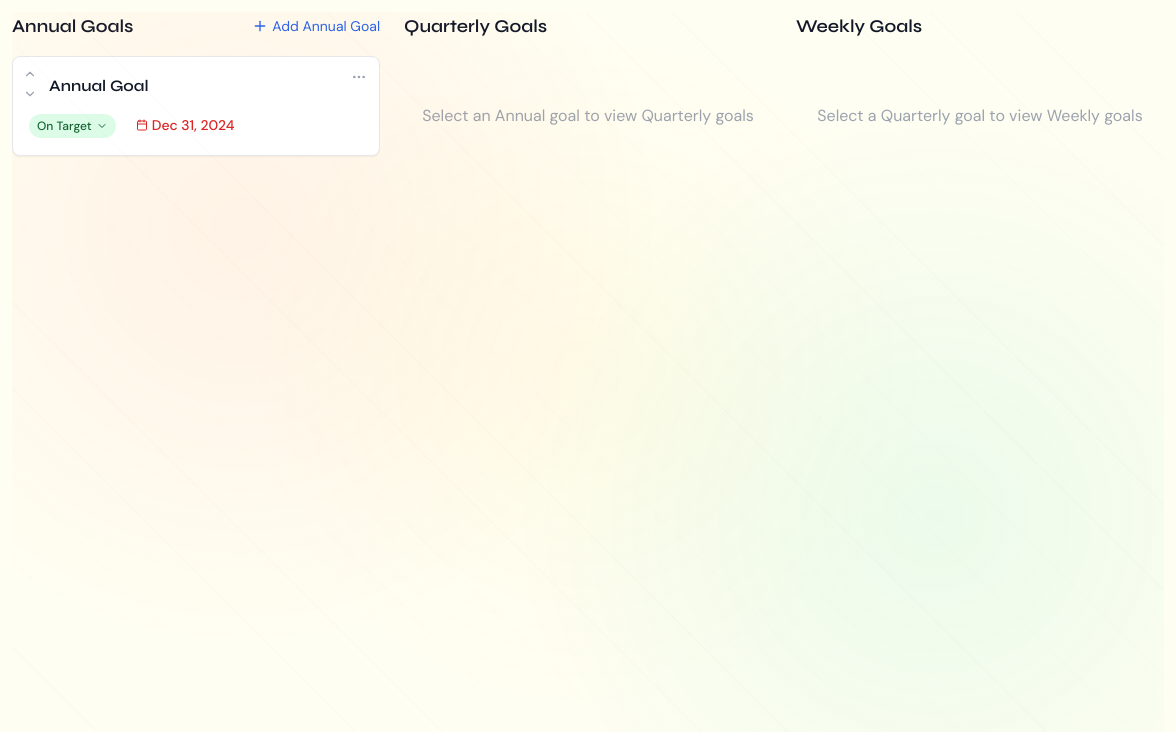
Scenario: ThreeColumnGoalView › shows selection flow from annual to quarterly to weekly
Expected: the text "Select an Annual goal to view Quarterly goals" is shown, [404,104,772,128]
Expected: the text "Select a Quarterly goal to view Weekly goals" is shown, [796,104,1164,128]
Note: Click annual goal
Click the text "Annual Goal" at (196,106), box [12,56,380,156]
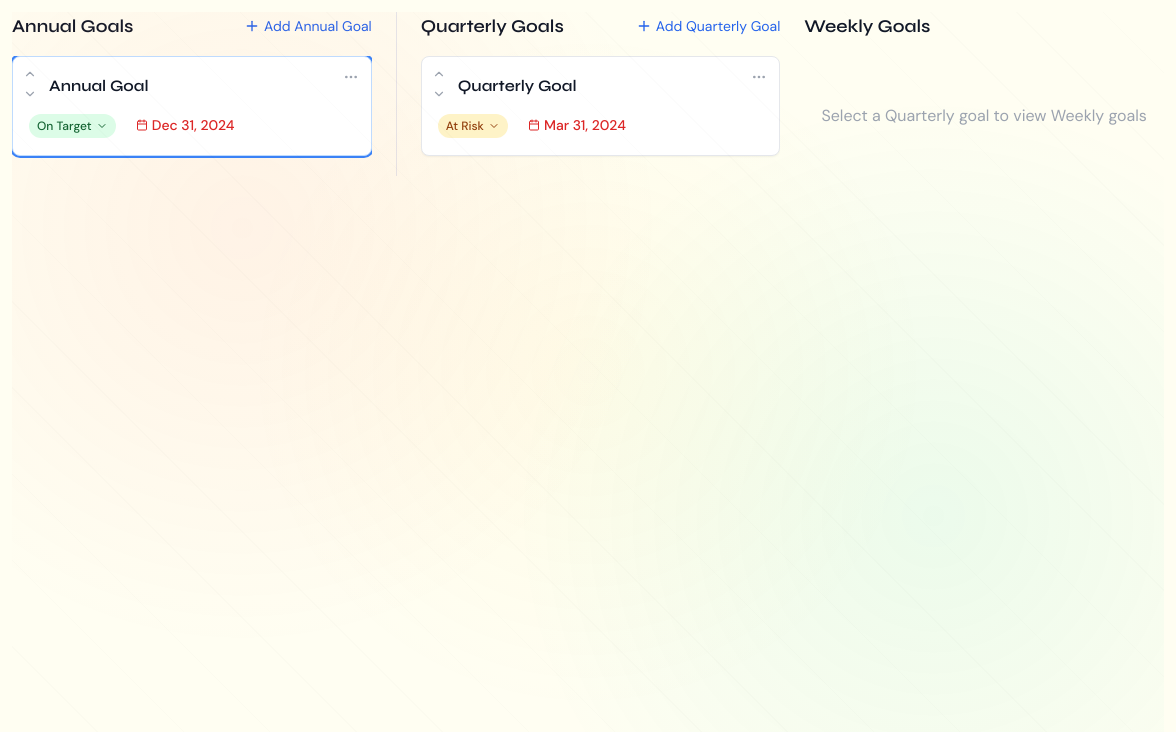
Result: the heading "Quarterly Goal" is shown at [458,76,577,95]
Note: Click quarterly goal
Click the text "Quarterly Goal" at (601,106), box [421,56,780,156]
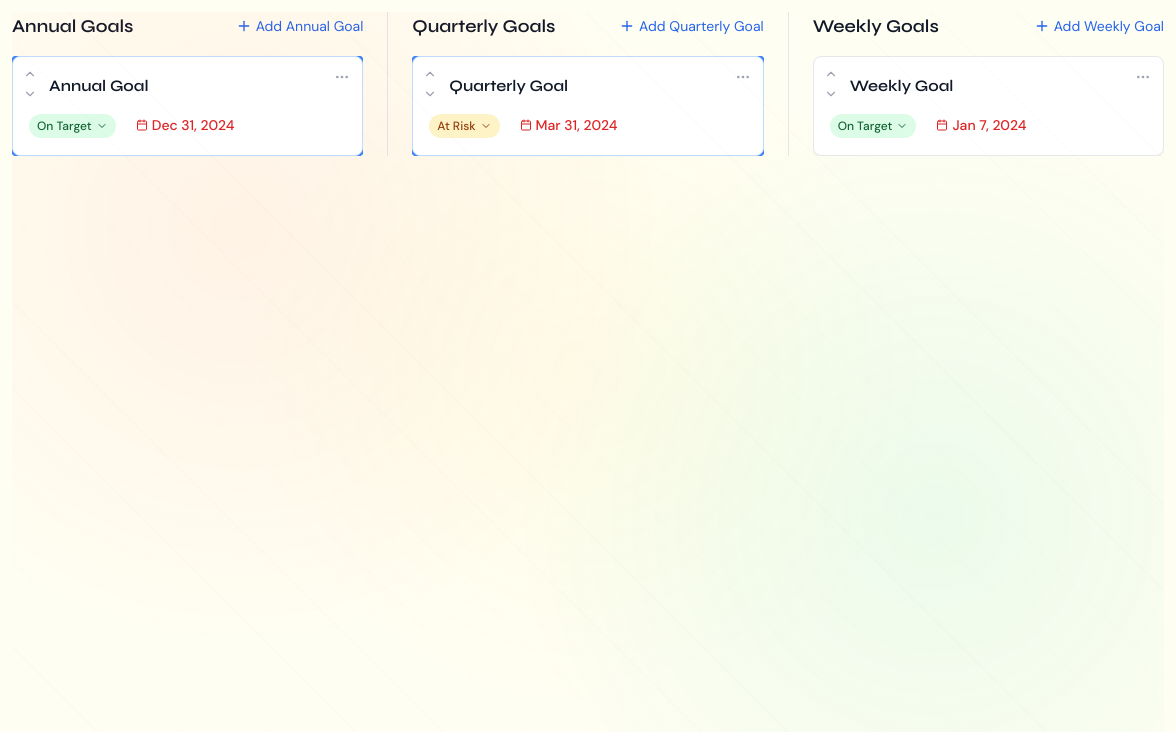
Result: the heading "Weekly Goal" is shown at [850,76,954,95]
